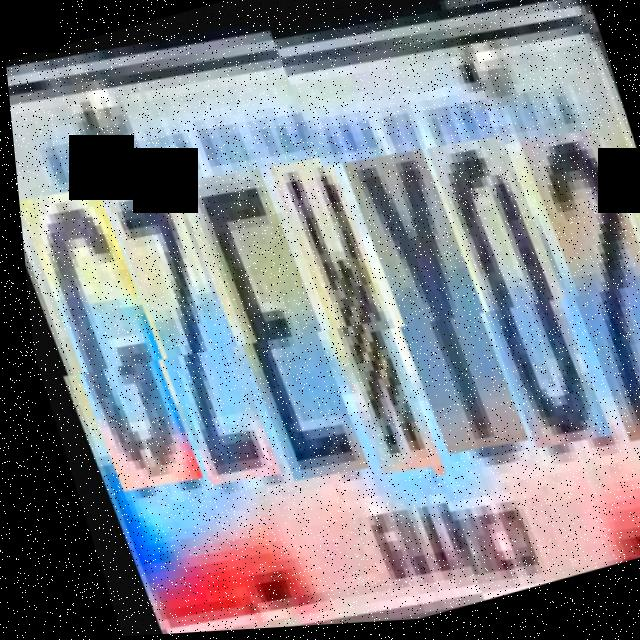0: (417, 119, 599, 459)
2: (509, 112, 640, 451)
E: (179, 162, 362, 503)
G: (14, 182, 196, 514)
W: (263, 150, 434, 496)
Y: (332, 133, 517, 466)
Z: (99, 178, 273, 508)
